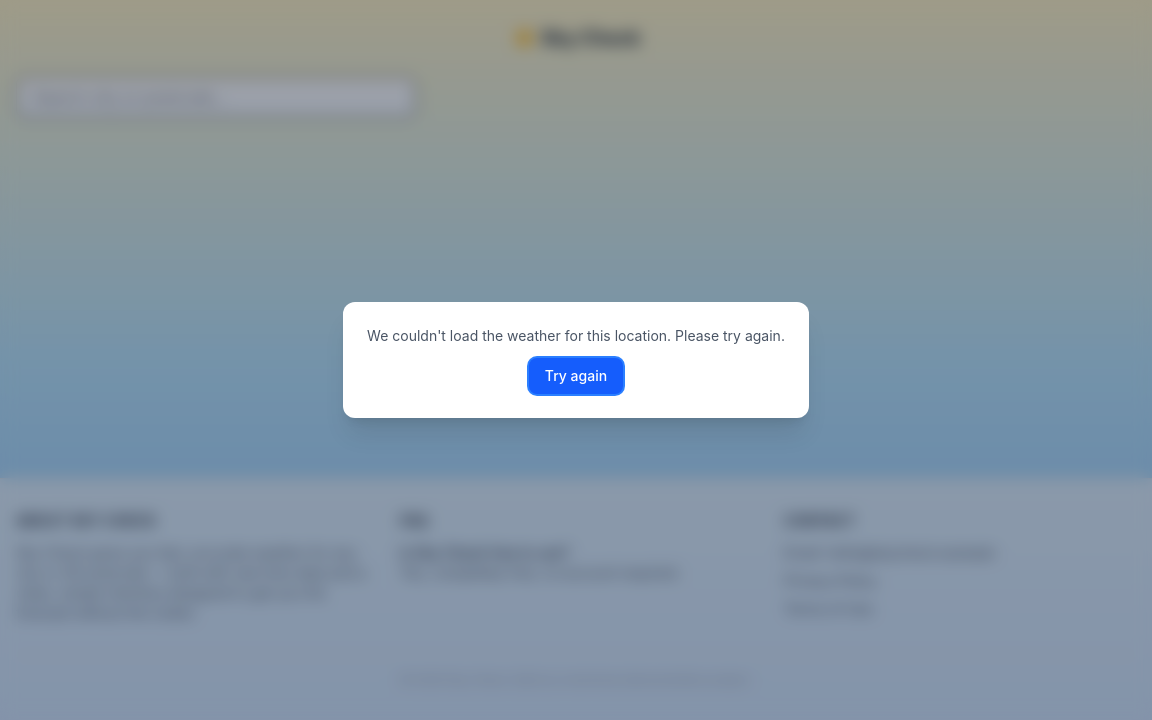
WeatherPage › shows an error overlay when the fetch fails, and recovers once "Try again" succeeds
Check: the message "We couldn't load the weather for this location. Please try again. Try again" is shown, box [343, 302, 809, 418]
Check: the message shows "We couldn't load the weather for this location. Please try again.", box [367, 327, 785, 344]
Step 1. Click the button "Try again" → (576,376), box [529, 358, 623, 394]
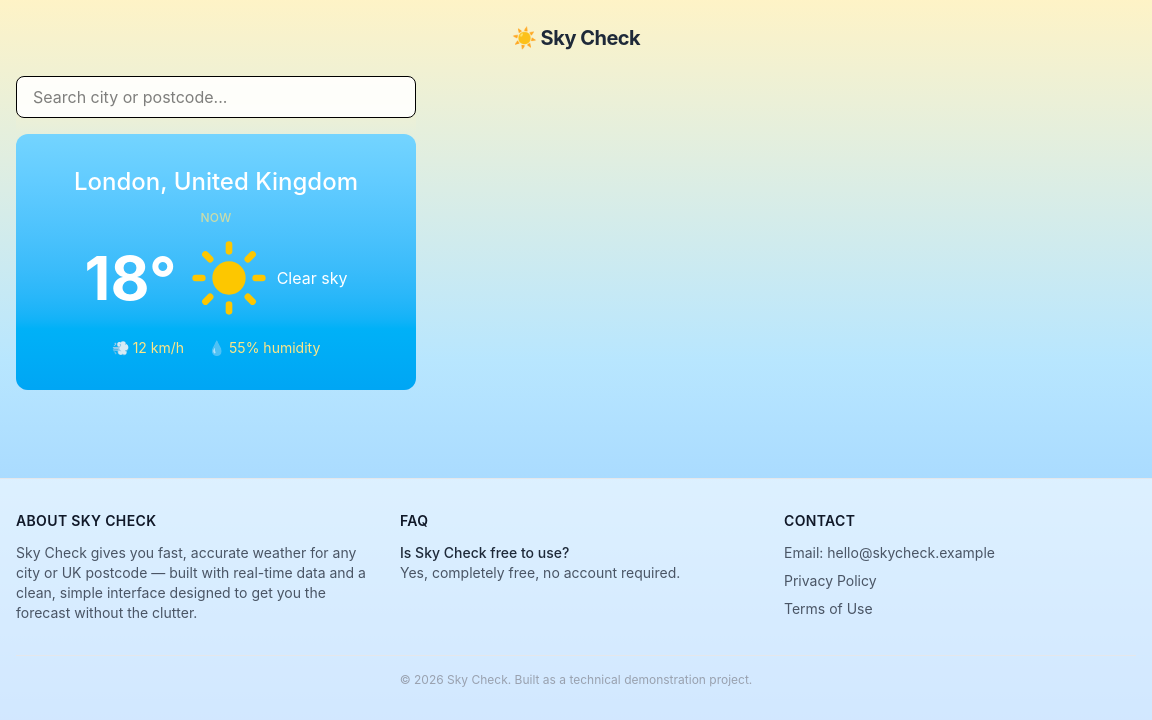
Check: the message "We couldn't load the weather for this location. Please try again. Try again" is gone
Check: the text "London, United Kingdom" is shown, box [74, 166, 358, 198]
